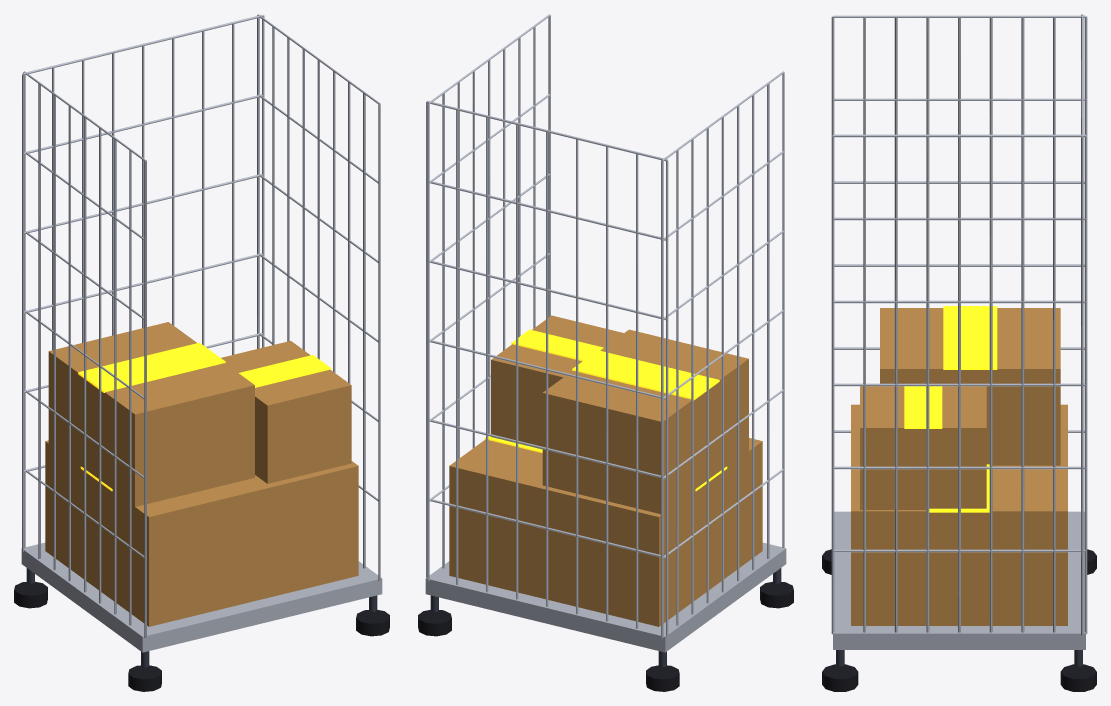
File: lgx-001.glb
The picture shows the model from 3 angles, left to right: view 1: azimuth 30°, elevation 25°; view 2: azimuth 150°, elevation 25°; view 3: azimuth 270°, elevation 25°; orthographic projection. The views are drawn at different scales.
Parts seen in each view (by area): view 1: pastry, steel, sign_yellow, rubber; view 2: pastry, steel, sign_yellow, rubber; view 3: pastry, steel, sign_yellow, rubber.
Boxes of the visible parts, x1=… form: pastry: x1=45, y1=322, x2=358, y2=626; steel: x1=21, y1=14, x2=382, y2=652; sign_yellow: x1=78, y1=342, x2=331, y2=491; rubber: x1=14, y1=581, x2=389, y2=691; pastry: x1=449, y1=315, x2=762, y2=626; steel: x1=425, y1=14, x2=786, y2=652; sign_yellow: x1=484, y1=329, x2=727, y2=491; rubber: x1=418, y1=581, x2=793, y2=691; pastry: x1=851, y1=308, x2=1067, y2=625; steel: x1=831, y1=14, x2=1087, y2=649; sign_yellow: x1=904, y1=306, x2=997, y2=512; rubber: x1=822, y1=549, x2=1096, y2=691.
Bounding box in the file's own units: 0.8551 × 1.68 × 0.76.
